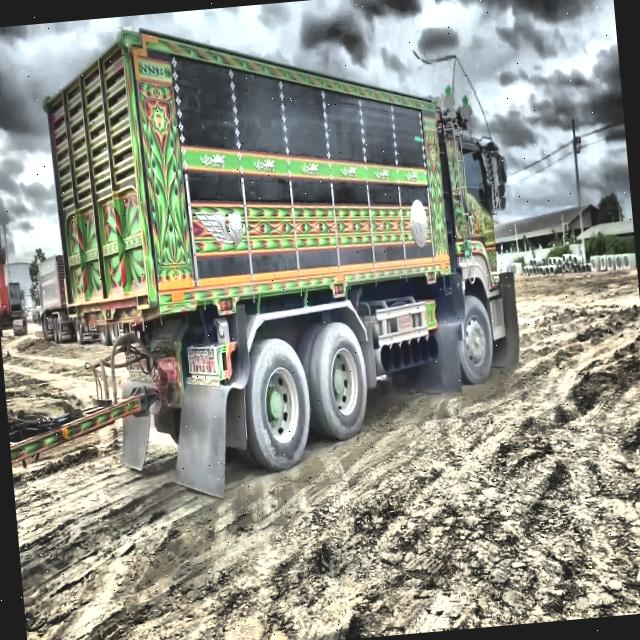trailer: (0, 0, 520, 494)
